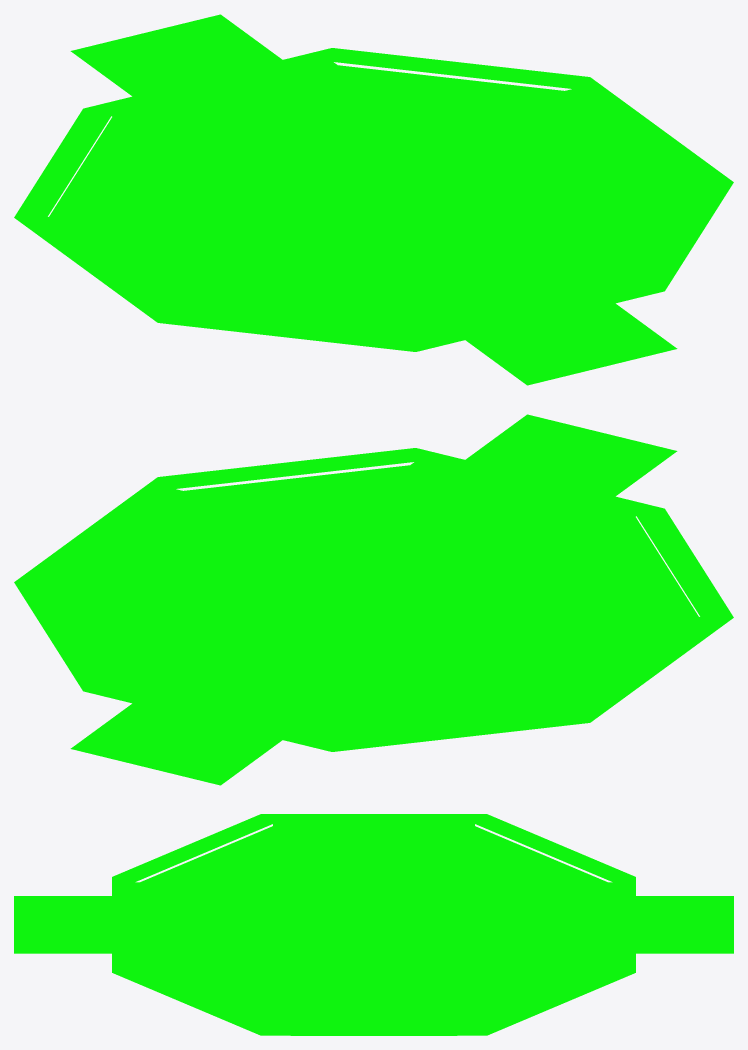
Rendered from s08e_ib1-floor.glb.
3 renders of one model, top to bottom at view 1: azimuth 30°, elevation 25°; view 2: azimuth 150°, elevation 25°; view 3: azimuth 270°, elevation 25°, orthographic. The views are drawn at different scales.
Visible parts, largest first — view 1: collision_floor-colonly; view 2: collision_floor-colonly; view 3: collision_floor-colonly.
Part boxes in pixels (x1,y1,x2,y2): collision_floor-colonly: (14,14,733,385); collision_floor-colonly: (14,414,733,785); collision_floor-colonly: (14,814,733,1035).
Bounding box in the file's own units: 40.77 × 0.1992 × 56.
